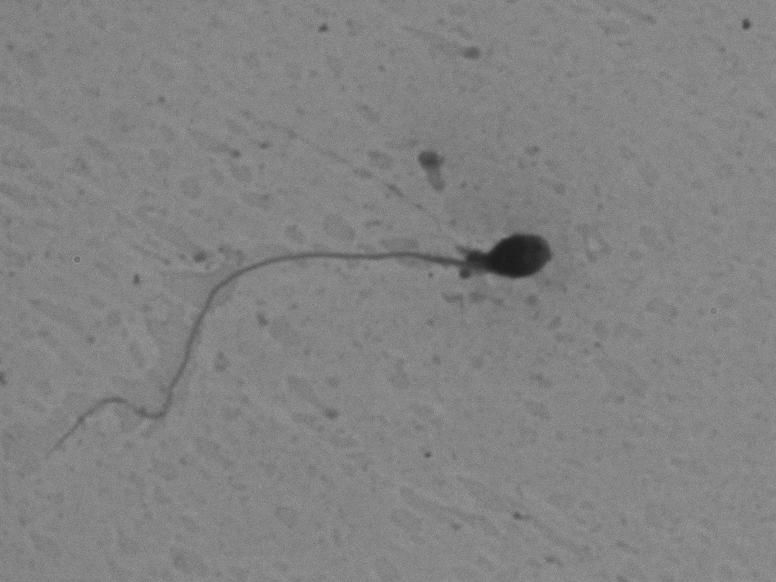Abnormal: (29, 190, 617, 483)
